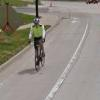Bicycle: (24, 34, 51, 74)
